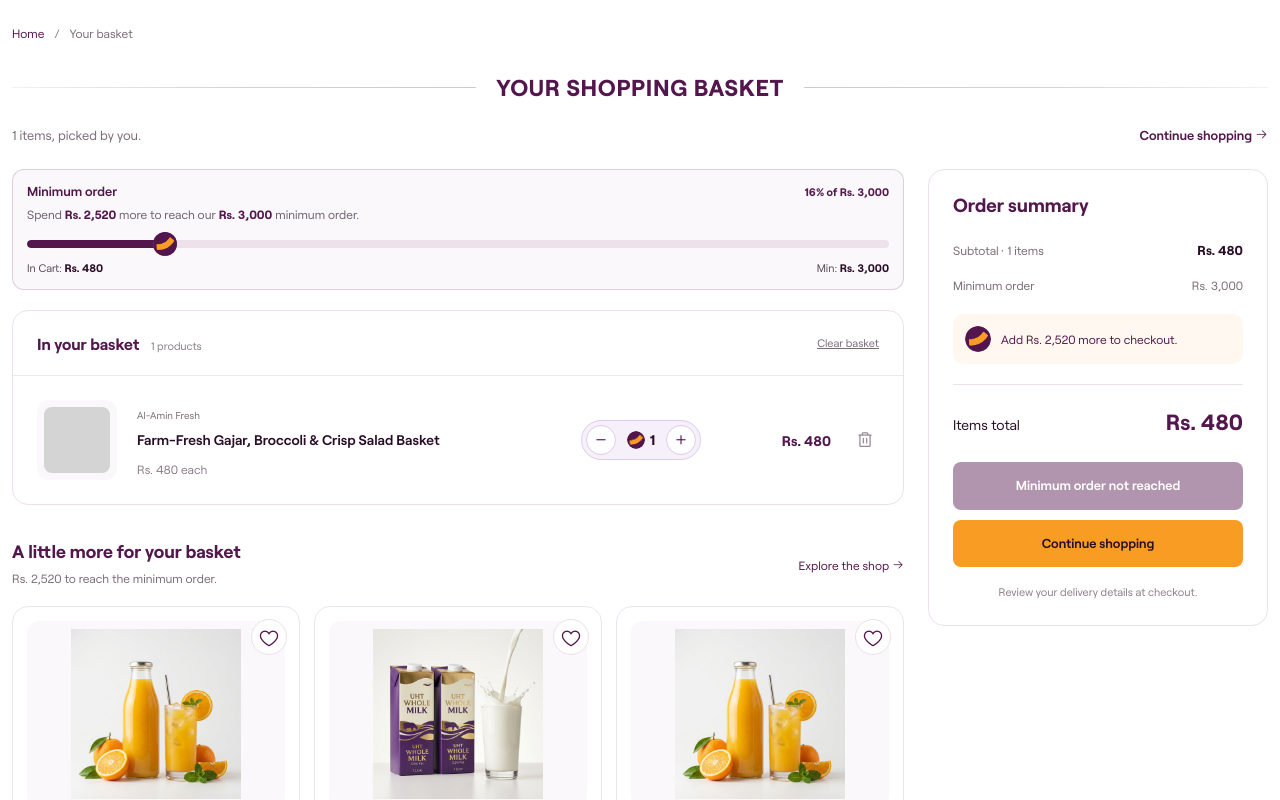
Test case: Branded cart page › returns to the branded empty state when the last item is removed
Click the button with class "basket-item__remove": coordinates (865, 440) x1=851 y1=424 x2=879 y2=456
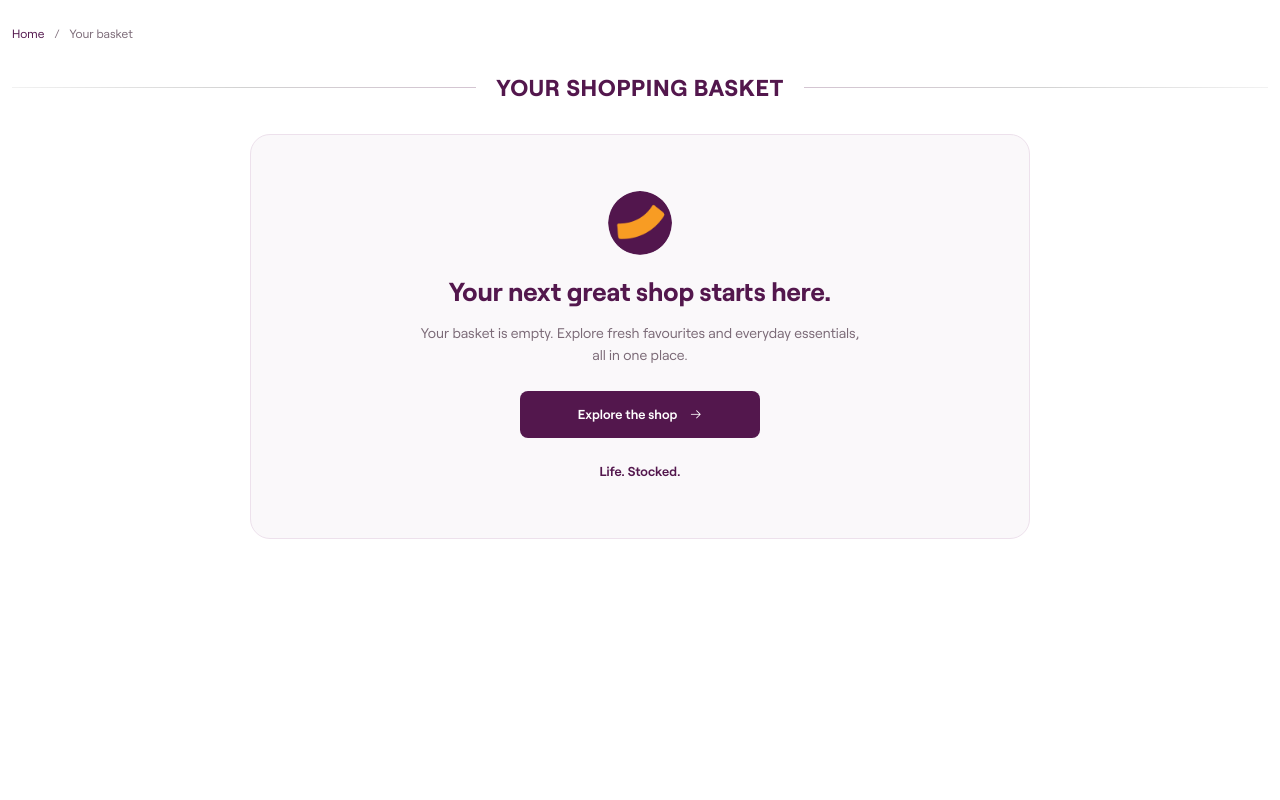
Now the element with class "basket-empty" is shown, box x1=250 y1=134 x2=1030 y2=539
Now the element with class "basket-summary" is gone
